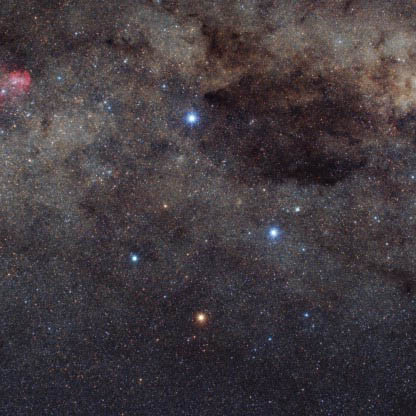Southern Cross: (120, 239, 152, 273), (264, 222, 299, 250), (179, 105, 210, 136), (188, 305, 216, 329)
